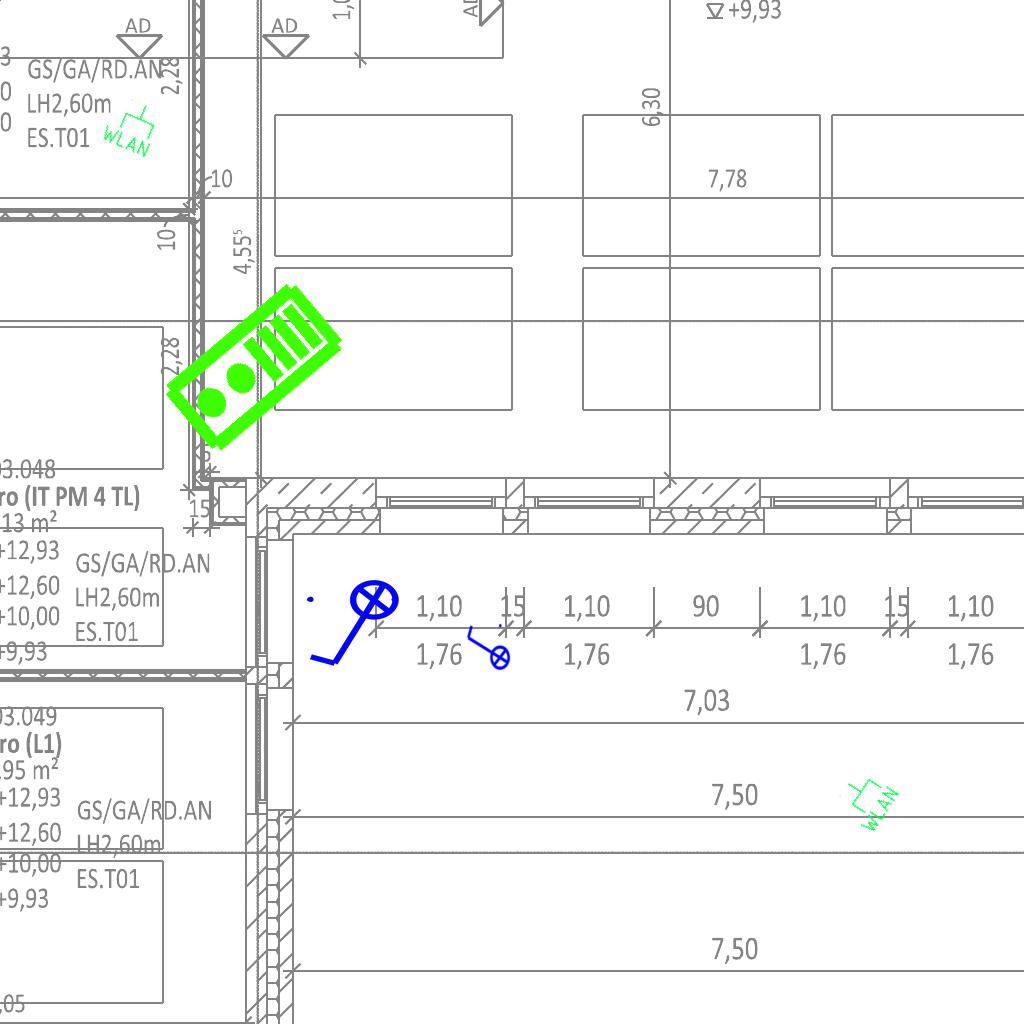Ausschalter_beleuchtet: (301, 578, 413, 674), (463, 621, 511, 677)
Gegensprechanlage_mit_Video: (156, 276, 353, 462)
WLAN: (830, 765, 902, 837), (97, 91, 167, 161)
